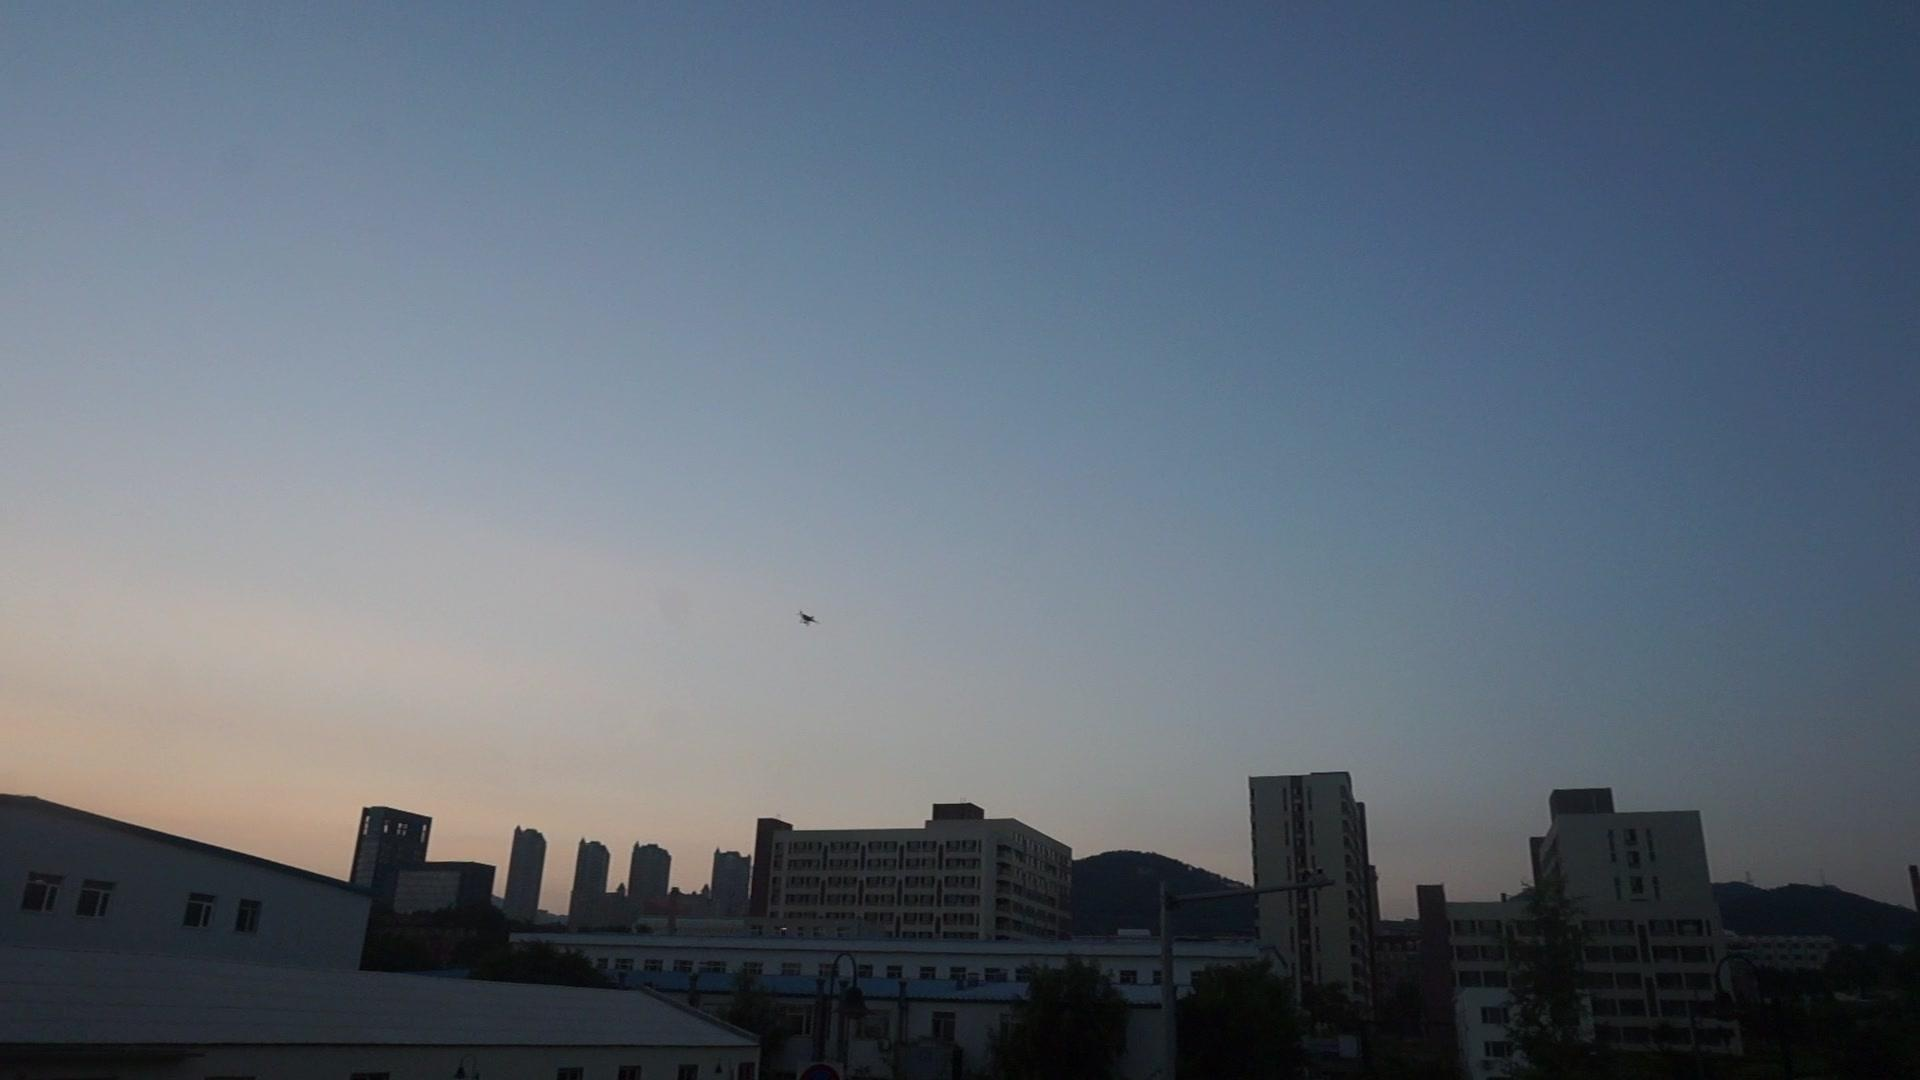UAV: (796, 611, 822, 629)
